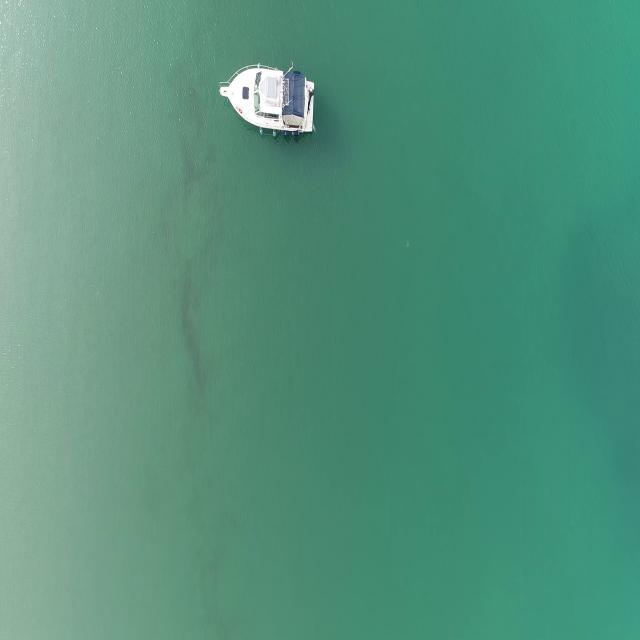boat: (217, 62, 318, 140)
